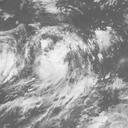cyclone: (27, 27, 85, 84)
